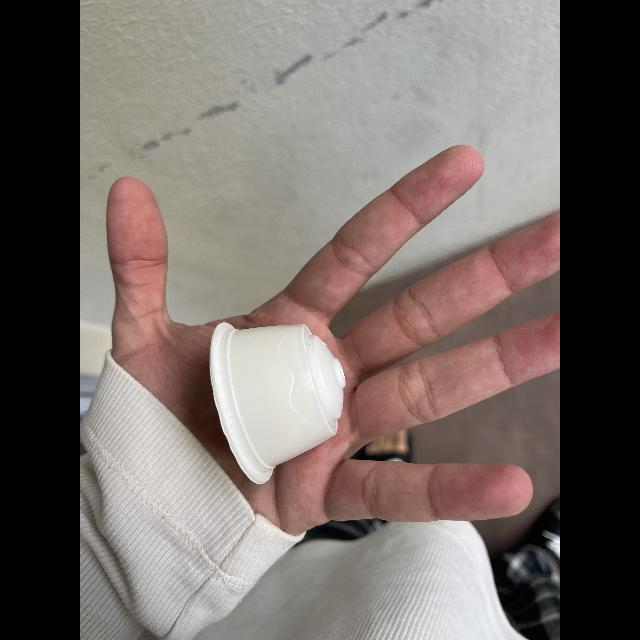intact_capsule: (202, 300, 352, 486)
